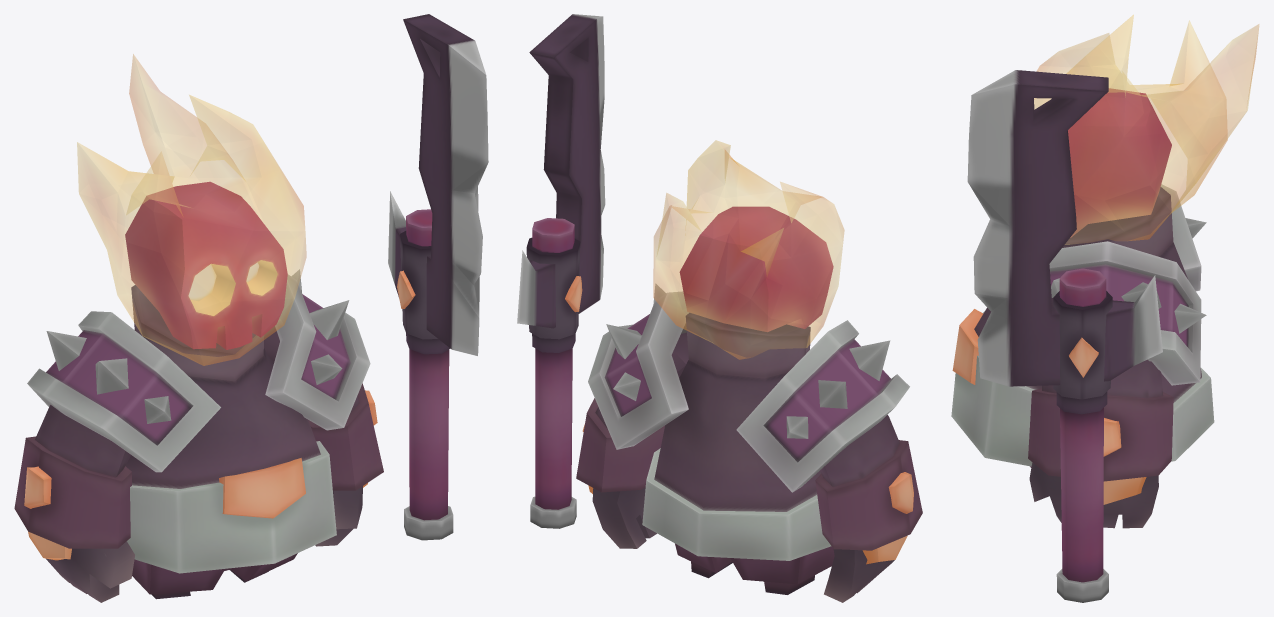
The model's file is almost_a_hero_enemy.glb.
3 renders of one model, left to right at view 1: azimuth 30°, elevation 25°; view 2: azimuth 150°, elevation 25°; view 3: azimuth 270°, elevation 25°, orthographic. The views are drawn at different scales.
Visible parts, largest first — view 1: Almost_a_Hero_Enemy; view 2: Almost_a_Hero_Enemy; view 3: Almost_a_Hero_Enemy.
Part boxes in pixels (<box>): Almost_a_Hero_Enemy: <box>14,14,488,602</box>; Almost_a_Hero_Enemy: <box>517,14,922,602</box>; Almost_a_Hero_Enemy: <box>951,14,1259,602</box>.
Size of the model in its own units: 6.05 by 7.01 by 3.8.
2 materials, 2 textured.
